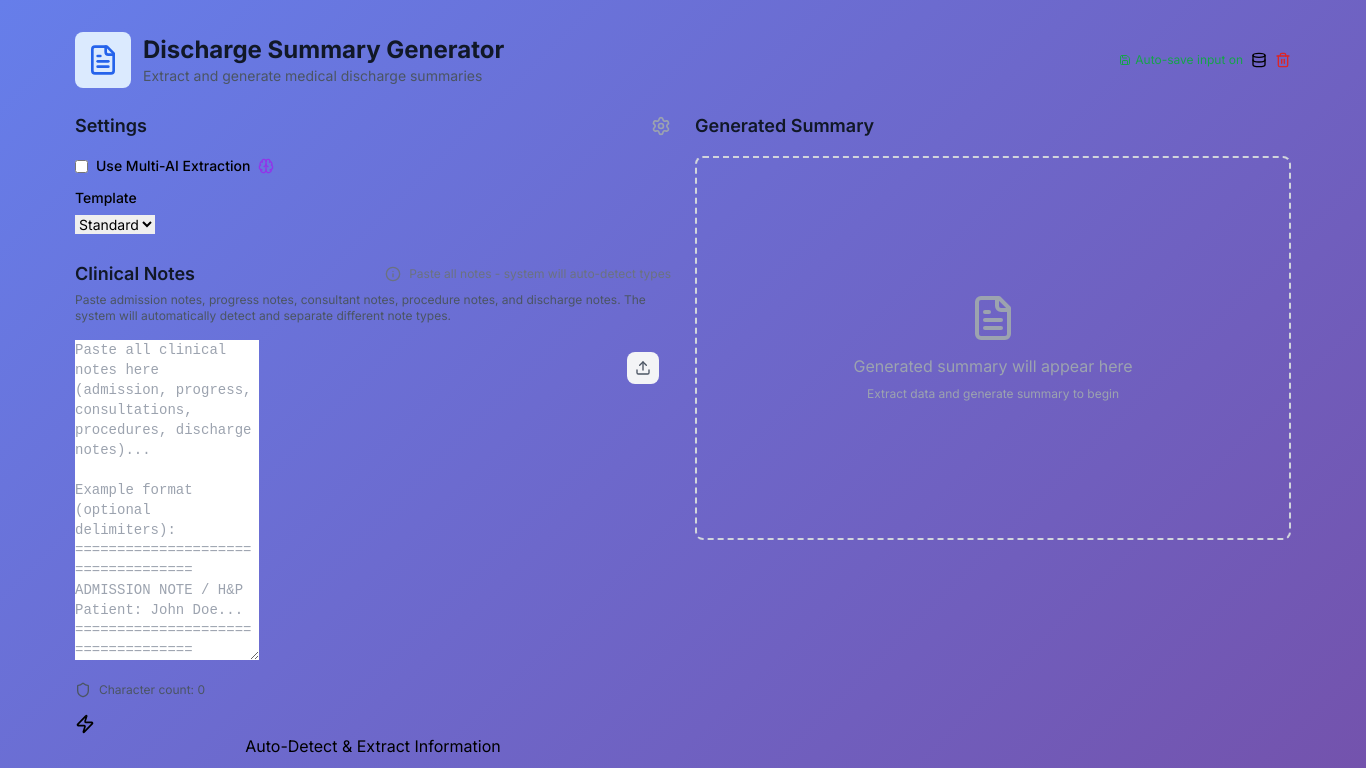
Test case: DischargeSummaryGenerator - Comprehensive Tests › Settings and Preferences › toggles auto-save setting
Check: the text "Auto-save input on" is shown, box [1119,52,1243,68]
Click the button titled "Toggle auto-save": [1259, 60] box [1251,52,1267,68]
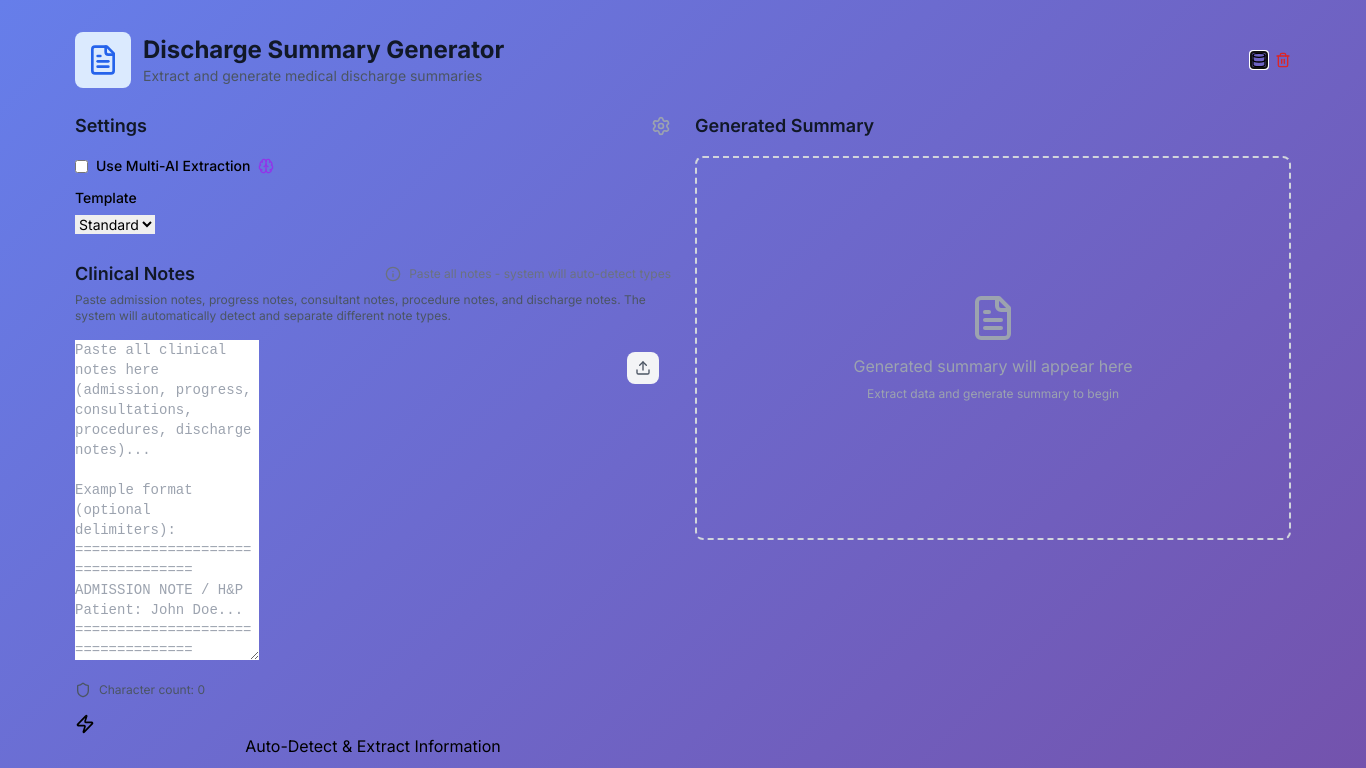
Check: the text "Auto-save input on" is gone
